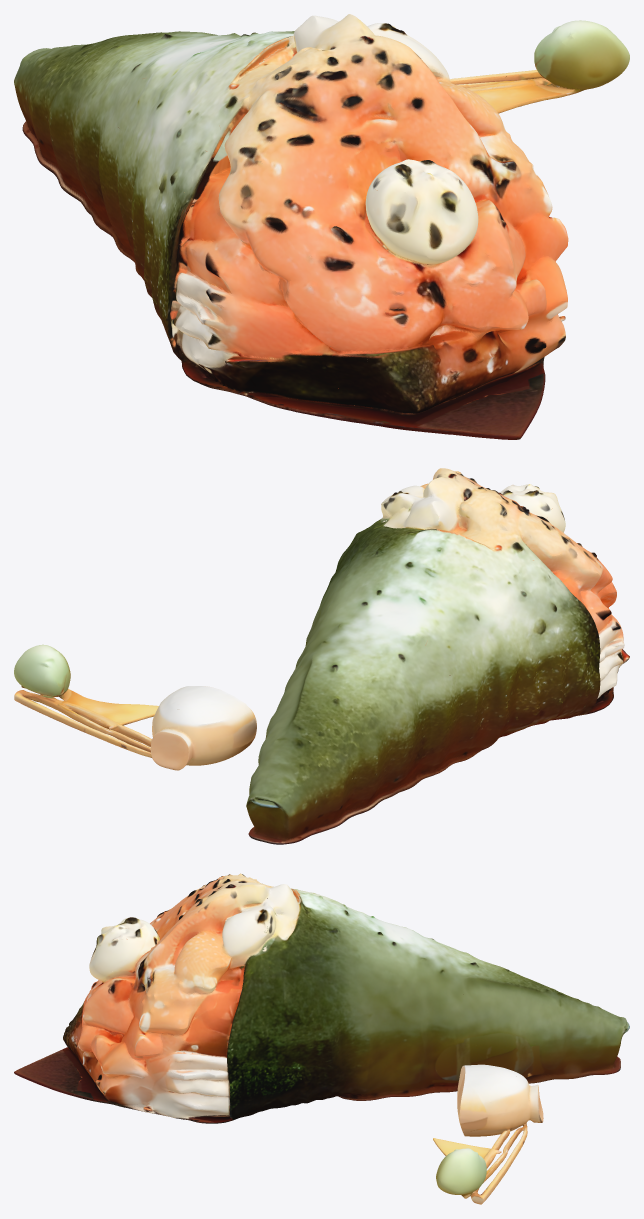
The model's file is Temaki.glb.
The picture shows the model from 3 angles, top to bottom: view 1: azimuth 30°, elevation 25°; view 2: azimuth 150°, elevation 25°; view 3: azimuth 270°, elevation 25°; orthographic projection. The views are drawn at different scales.
Parts seen in each view (by area): view 1: model; view 2: model; view 3: model.
Part boxes in pixels (x1,y1,x2,y2): model: [14, 14, 629, 439]; model: [14, 468, 629, 844]; model: [14, 873, 629, 1204].
Size of the model in its own units: 1.5 by 0.6702 by 1.9.
1 material, 1 textured.
